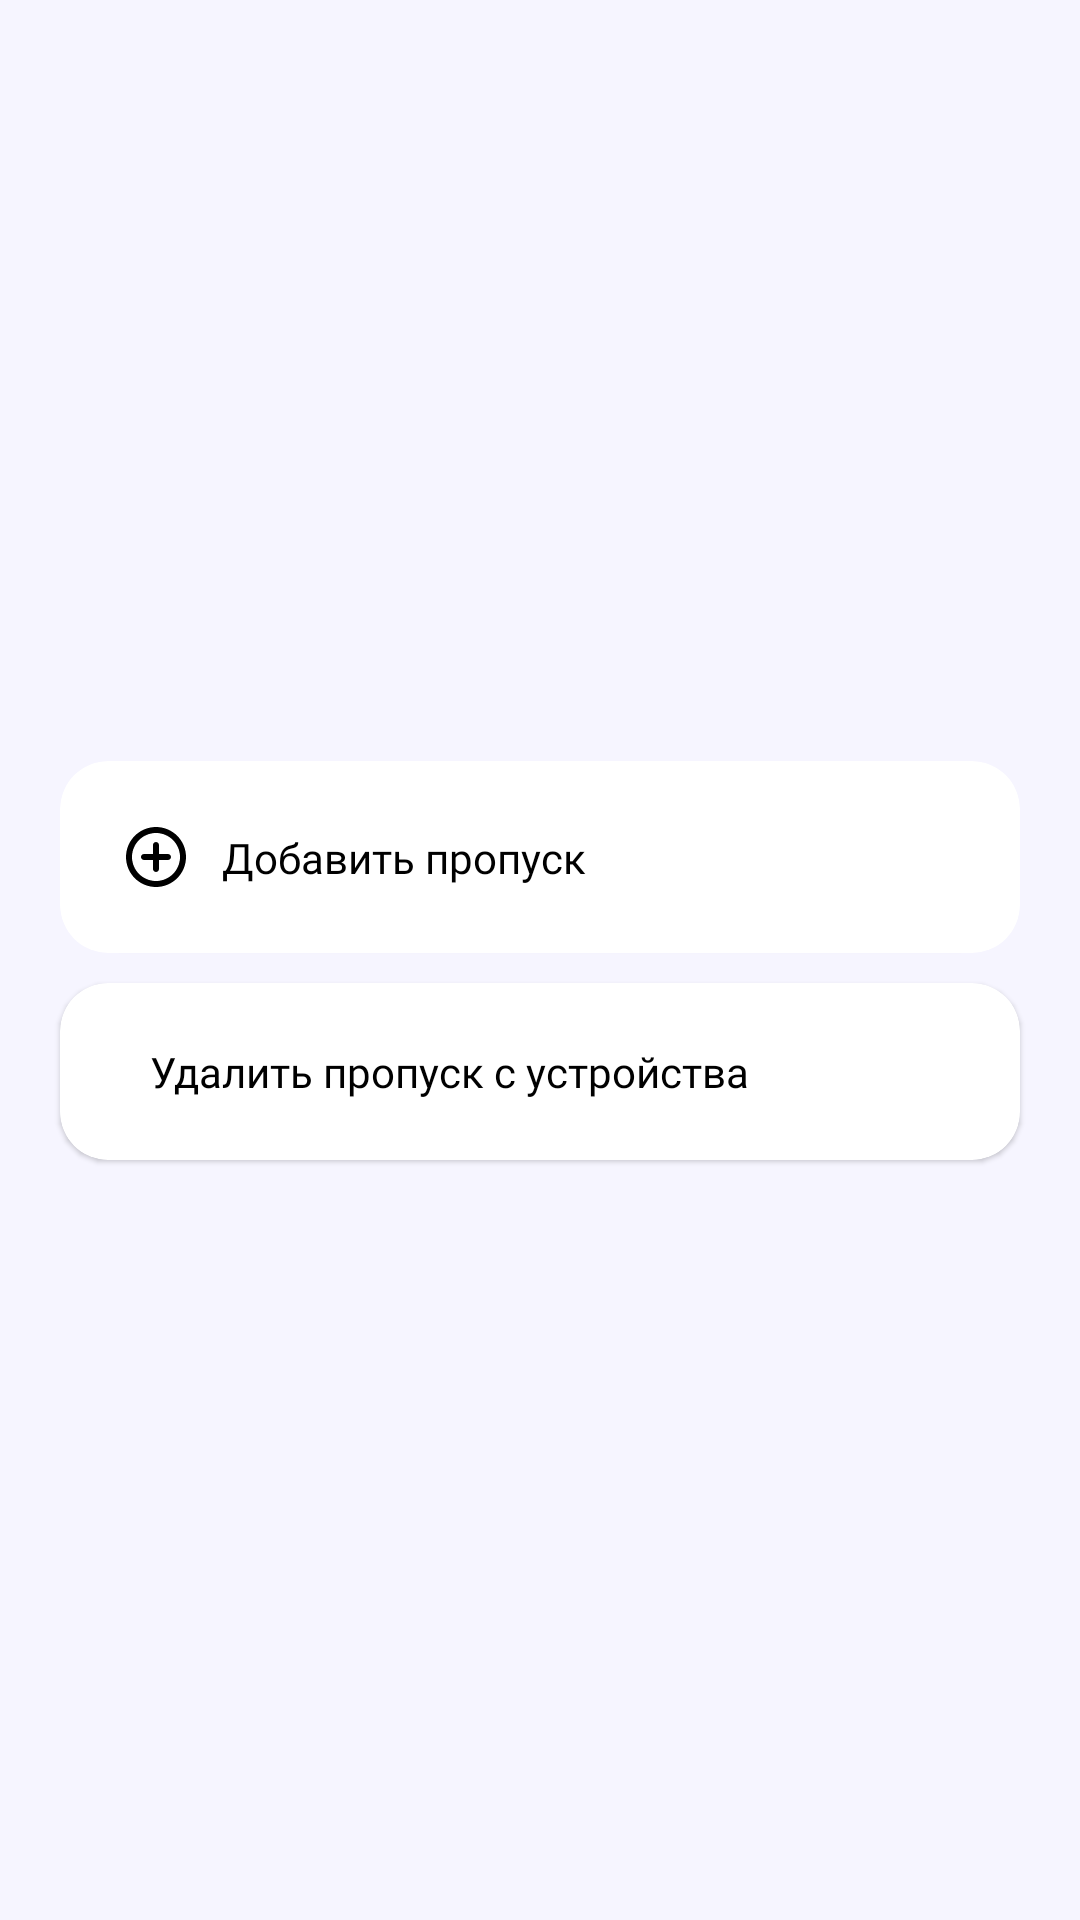

Icon click points for this 1080×1920 phone screenshot, format point (x, y):
add circle: point (156, 857)
